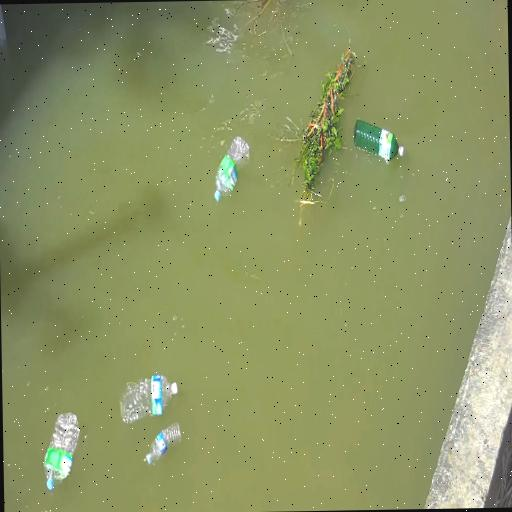plastic: (206, 140, 258, 216), (38, 408, 83, 492), (113, 378, 178, 424), (348, 115, 402, 167), (144, 424, 184, 462)
twig: (281, 36, 361, 190), (242, 0, 282, 22)
